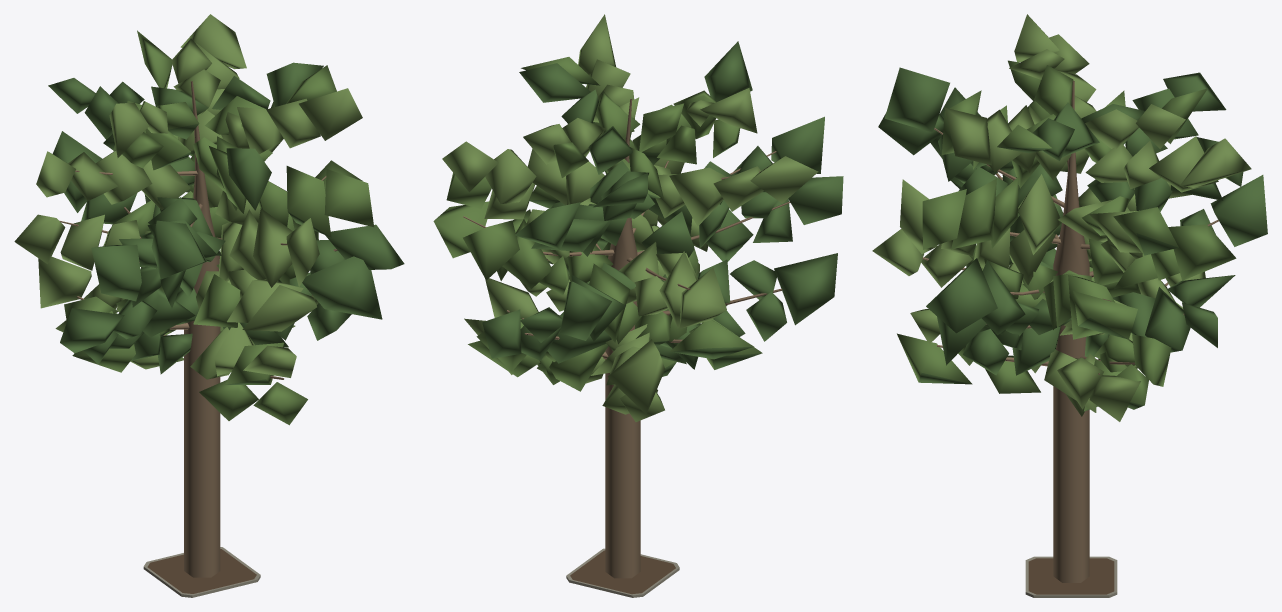
File: street-tree.glb
3 views of the same model, side by side, from view 1: azimuth 30°, elevation 25°; view 2: azimuth 150°, elevation 25°; view 3: azimuth 270°, elevation 25° (orthographic). The views are drawn at different scales.
Size of the model in its own units: 4.48 by 6.2 by 4.35.
